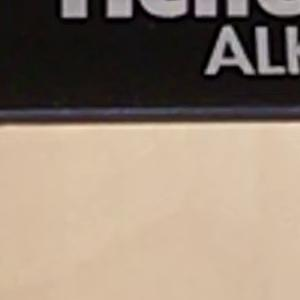keyword: (196, 17, 295, 84)
